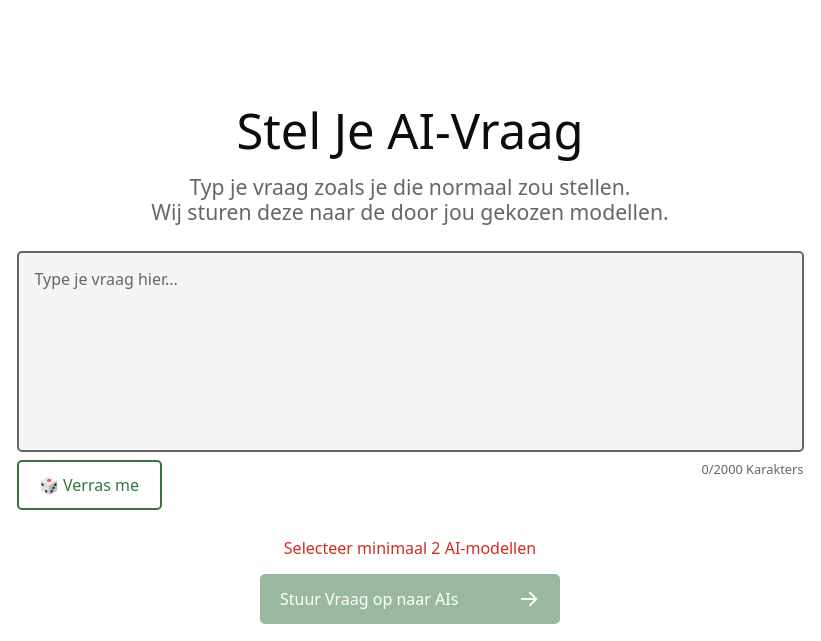
it: pages/challenger.vue › toont een live karakter-teller
The image size is (821, 641).
(page scrolled)
In the text box with placeholder "Type je vraag hier...": {"x": 410, "y": 352} [16,251,804,452], type "hallo"
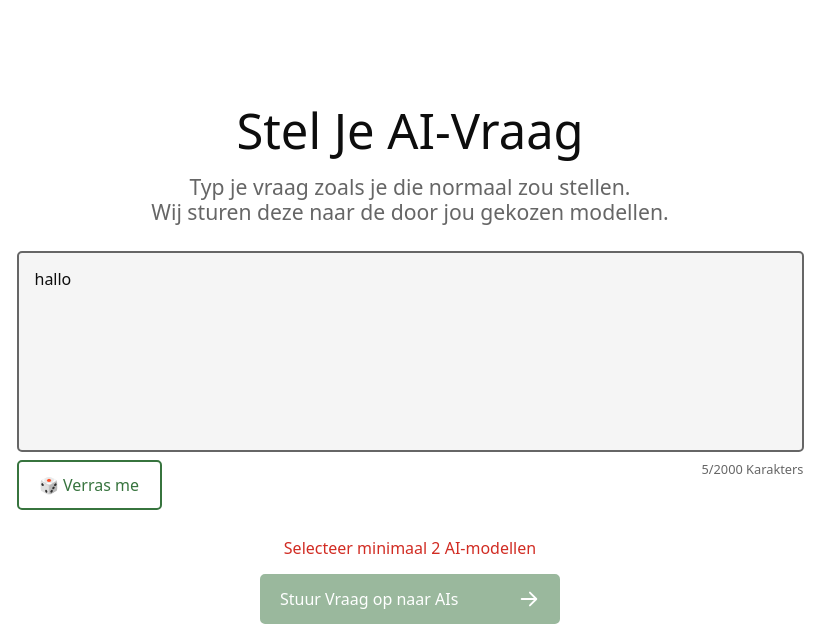
Result: the text "5/2000 Karakters" is shown at [701,460,804,480]
